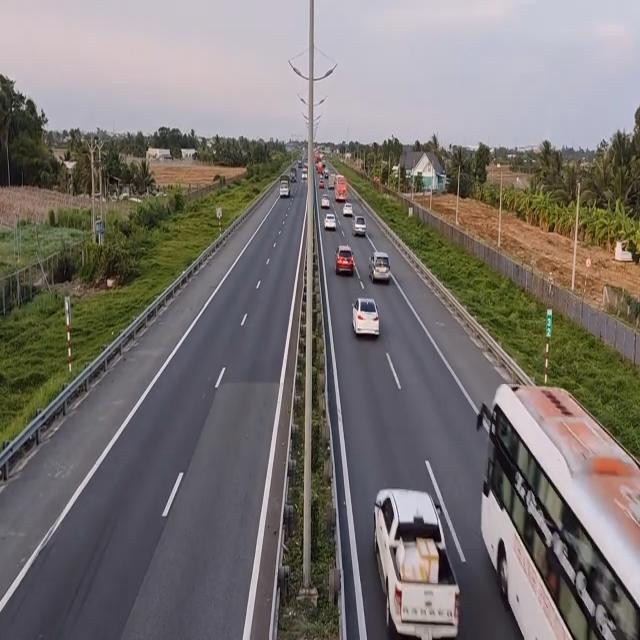bus: (477, 373, 638, 635), (336, 176, 348, 202)
car: (375, 490, 460, 639), (352, 299, 380, 343), (370, 253, 392, 288), (336, 247, 356, 278), (352, 214, 366, 237), (324, 213, 336, 231), (343, 203, 355, 217)
truck: (280, 177, 291, 200)
